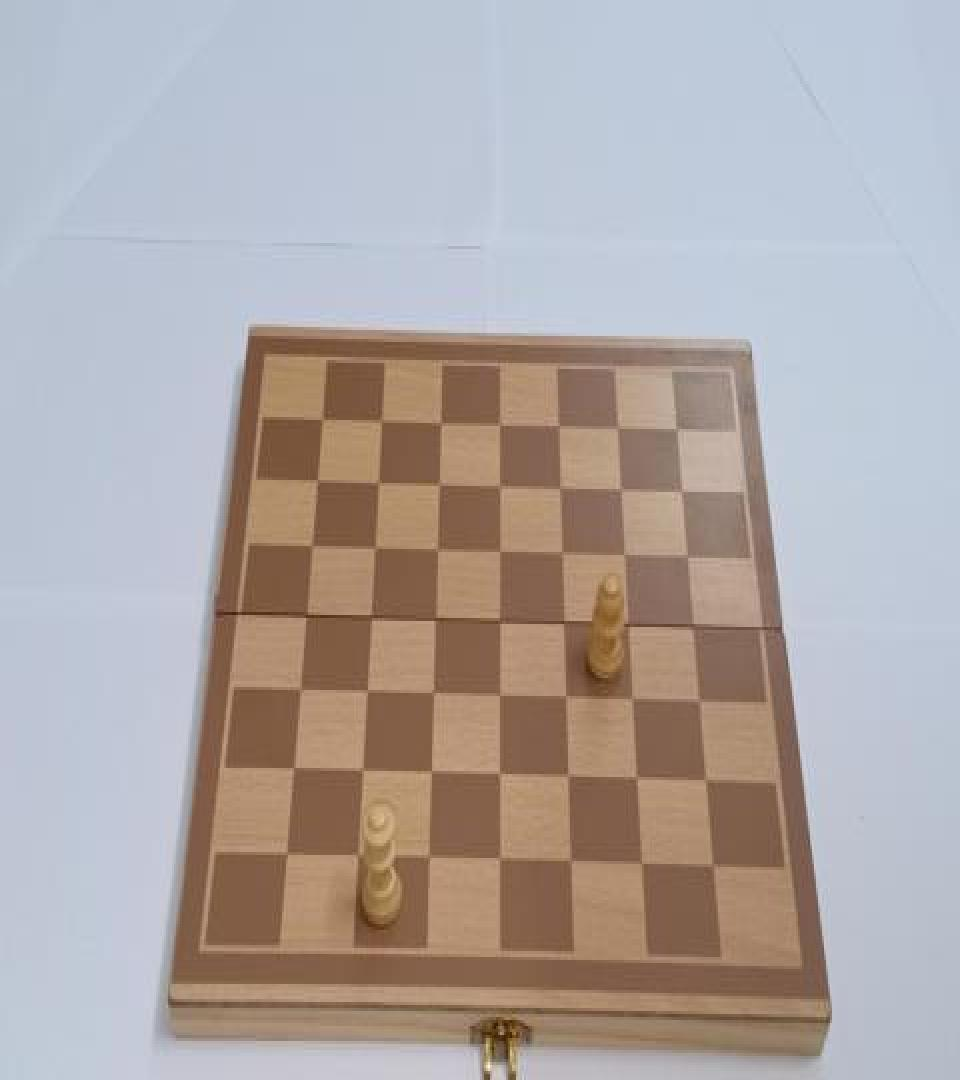xcorner: (315, 406, 333, 434), (424, 760, 442, 788), (491, 412, 509, 440), (491, 472, 509, 500), (673, 478, 691, 506), (310, 468, 328, 495), (304, 532, 322, 559), (298, 603, 316, 630), (292, 676, 310, 703), (285, 756, 303, 783), (373, 408, 391, 435), (370, 470, 388, 497), (363, 604, 381, 631), (359, 678, 377, 705), (350, 843, 368, 870), (431, 471, 449, 498), (429, 537, 447, 564), (427, 606, 445, 633), (425, 681, 443, 708), (422, 846, 440, 873), (491, 538, 509, 565), (492, 683, 510, 710), (493, 762, 511, 789), (549, 414, 567, 441), (554, 540, 572, 567), (556, 610, 574, 637), (559, 684, 577, 711), (565, 849, 583, 876), (608, 415, 626, 442), (612, 477, 630, 504), (621, 612, 639, 639), (631, 766, 649, 793), (637, 852, 655, 879), (667, 417, 685, 444), (679, 543, 697, 570), (693, 689, 711, 716), (700, 768, 718, 795), (278, 842, 296, 868), (366, 536, 384, 562), (354, 758, 372, 784), (432, 410, 450, 436), (492, 608, 510, 634), (493, 848, 511, 874), (552, 476, 570, 502), (562, 764, 580, 790), (616, 542, 634, 568), (626, 686, 644, 712), (686, 614, 704, 640), (708, 854, 726, 880)
